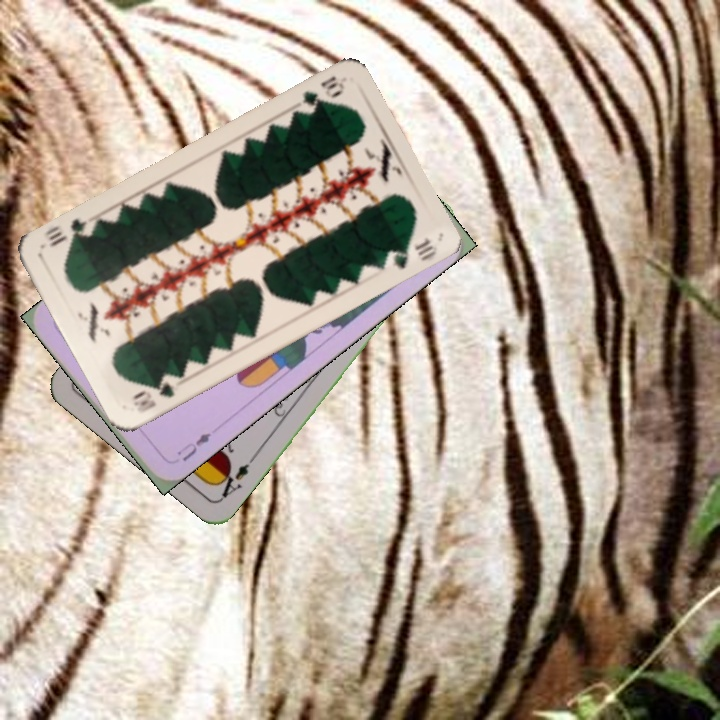EA: (213, 459, 252, 501)
EU: (173, 428, 214, 464)
G10: (292, 72, 347, 111), (129, 376, 178, 416)
